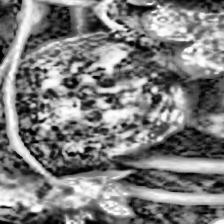Powdery Mildew Fruit: (0, 32, 198, 175)
